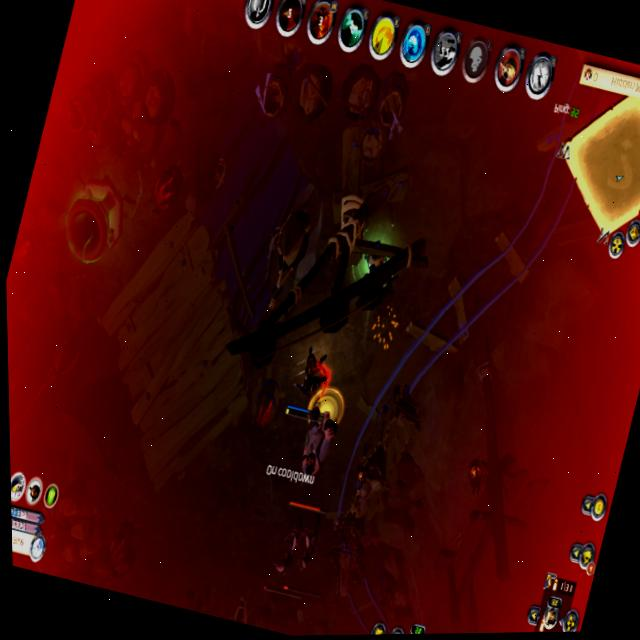ore: (280, 384, 352, 513), (259, 499, 341, 606)
red: (279, 338, 338, 426)
